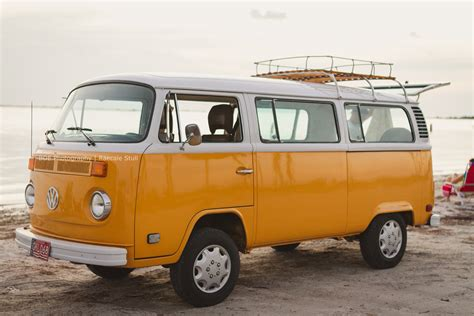bus: (33, 75, 434, 281)
